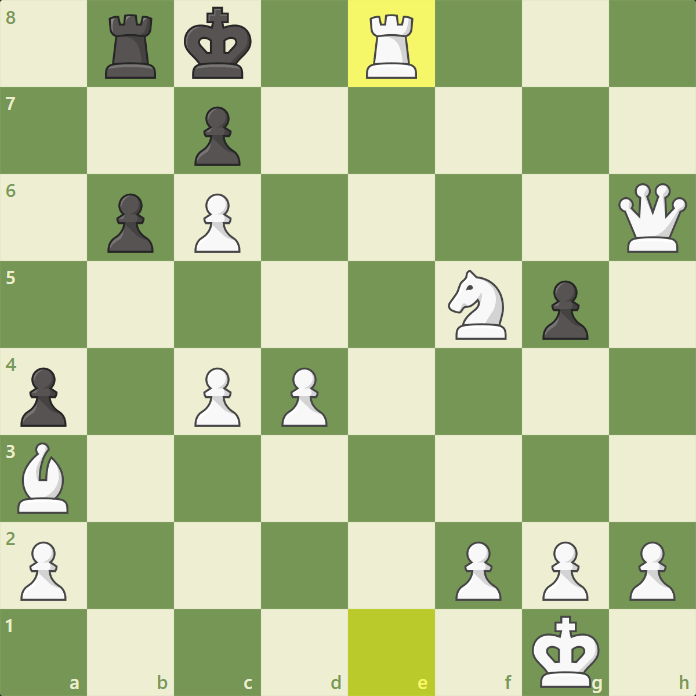B: (15, 439, 70, 517)
K: (530, 614, 602, 690)
N: (445, 267, 507, 343)
P: (19, 539, 68, 604), (454, 539, 503, 604), (541, 540, 590, 605), (628, 539, 677, 604), (193, 365, 241, 429), (279, 364, 327, 428), (193, 191, 241, 255)
Q: (616, 182, 690, 255)
R: (362, 12, 421, 82)
k: (180, 4, 254, 81)
p: (17, 364, 69, 431), (191, 105, 243, 169), (540, 278, 591, 342), (105, 191, 156, 255)
r: (103, 12, 161, 82)
